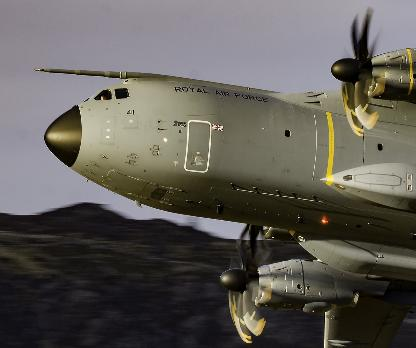A400M: (33, 5, 415, 345)
